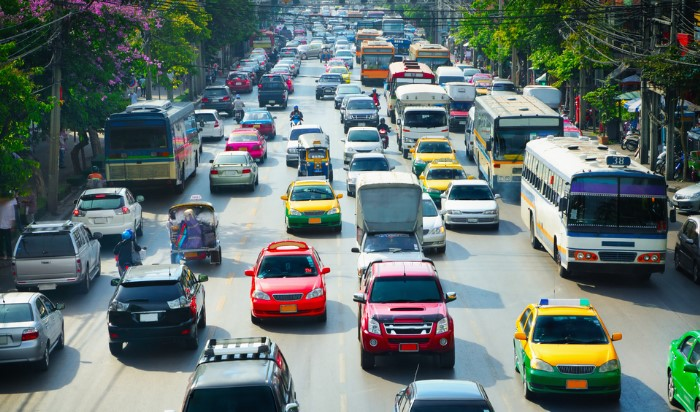HeavyVehicle: (521, 138, 669, 283), (101, 94, 199, 188), (360, 38, 391, 87)
LightVehicle: (511, 298, 627, 401), (353, 261, 459, 367), (108, 267, 200, 355), (249, 238, 329, 325), (284, 178, 343, 230), (443, 181, 501, 231), (208, 150, 259, 193)
